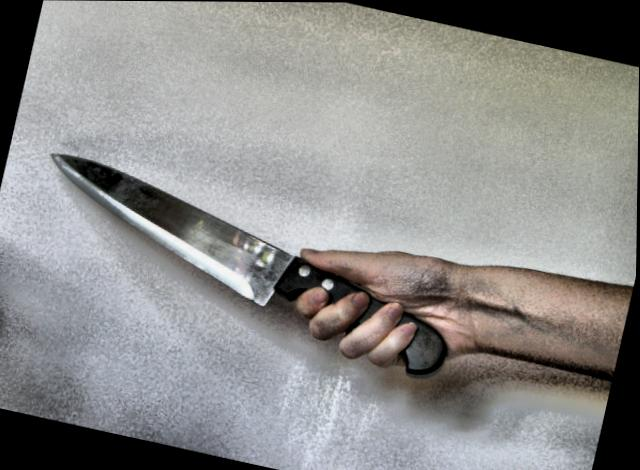knife: (20, 138, 372, 326)
